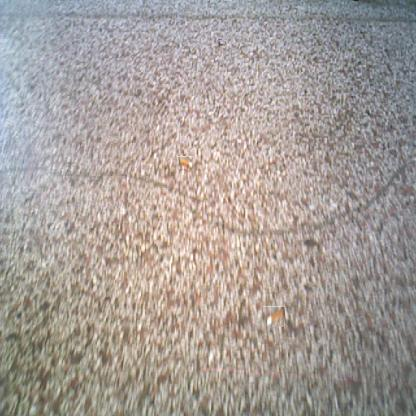dirty: (265, 306, 285, 327), (178, 156, 194, 169), (216, 40, 226, 48)
